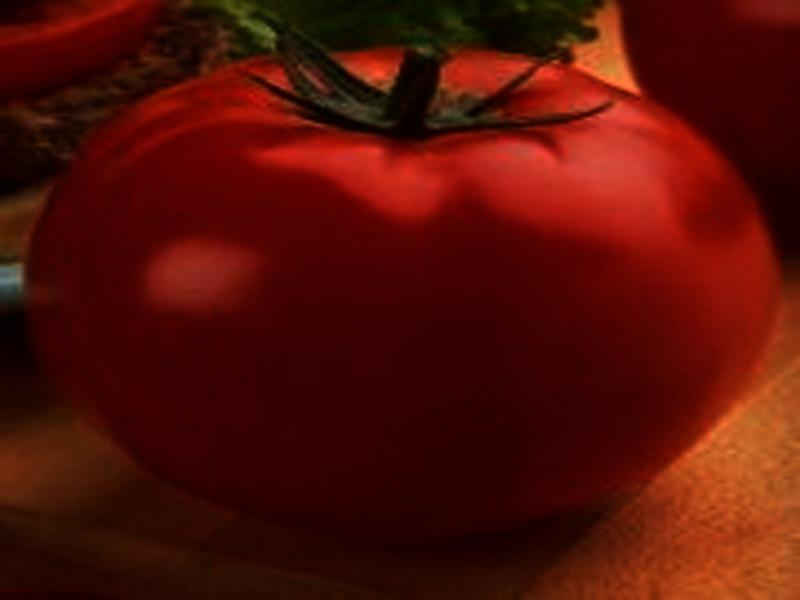Tomato: (27, 47, 778, 533)
